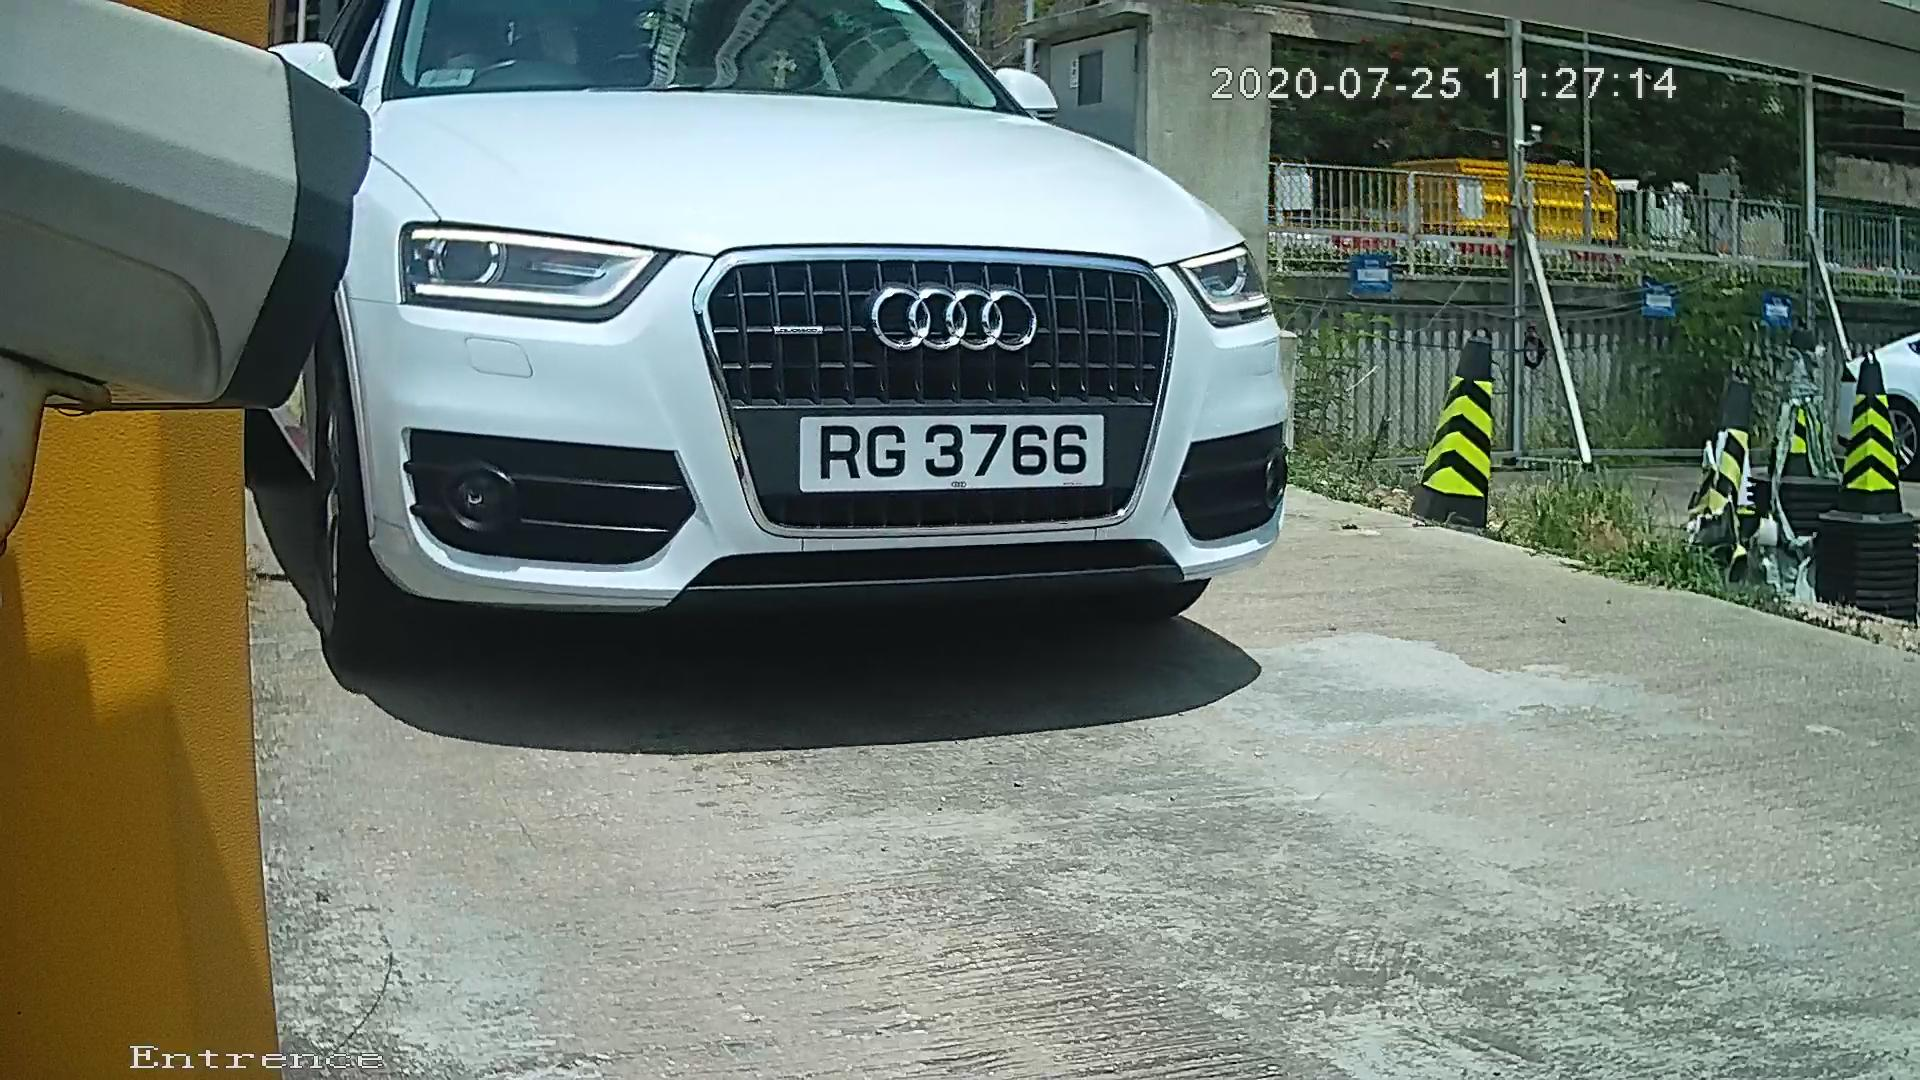Car: (61, 5, 1363, 724)
License Plate: (755, 406, 1141, 507)
